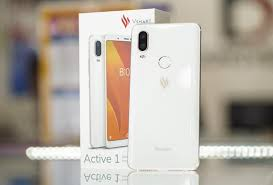vsmart: (124, 20, 205, 172)
